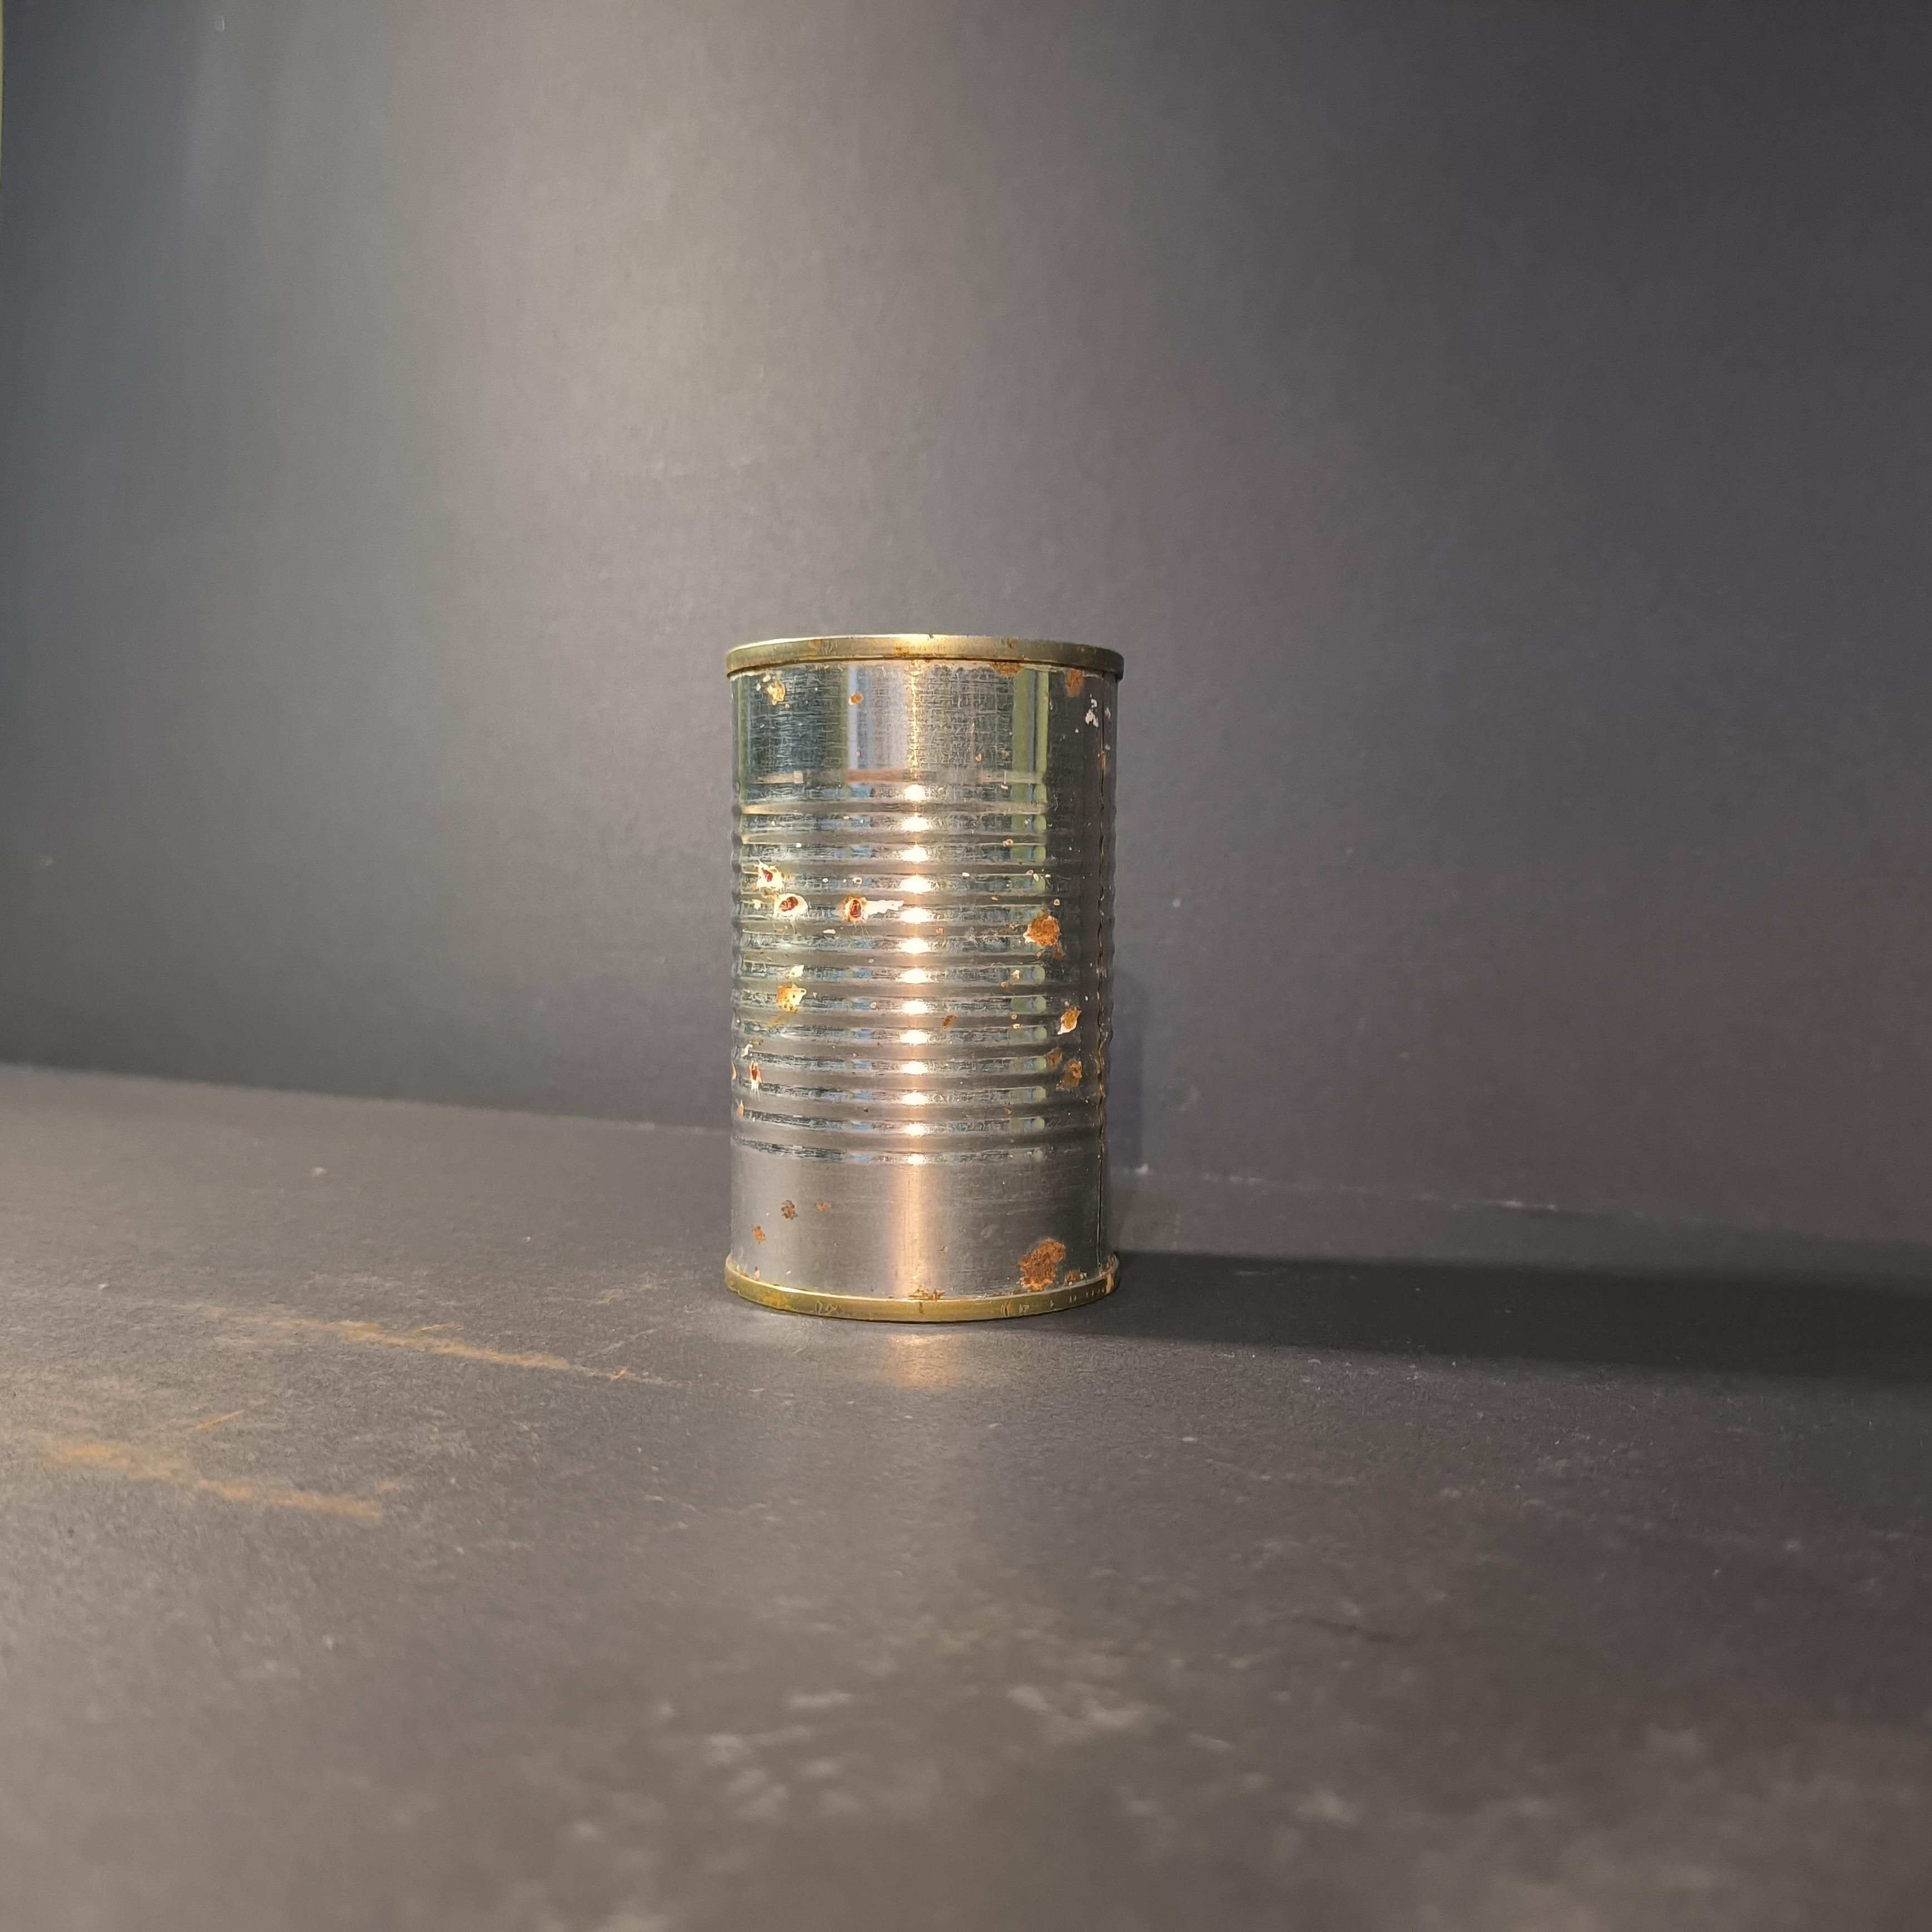Rusted: (706, 603, 1152, 1327)
